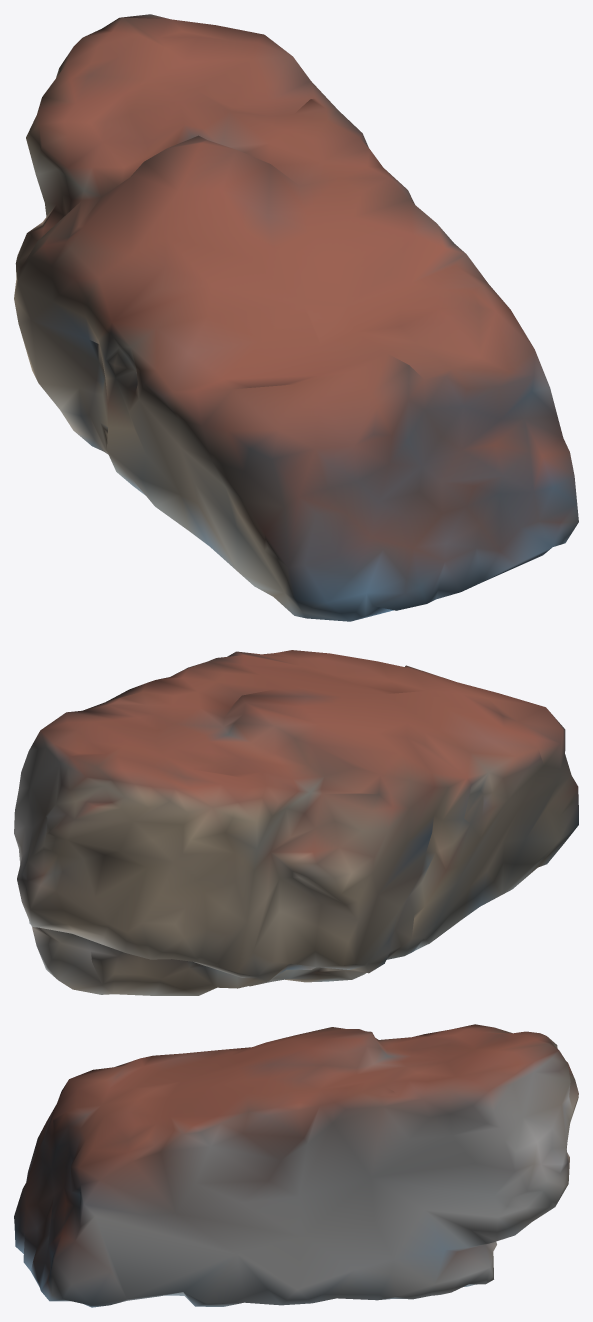
File: rock_07.fbx
The picture shows the model from 3 angles, top to bottom: view 1: azimuth 30°, elevation 25°; view 2: azimuth 150°, elevation 25°; view 3: azimuth 270°, elevation 25°; orthographic projection. The views are drawn at different scales.
Visible parts, largest first — view 1: rock_07.001; view 2: rock_07.001; view 3: rock_07.001.
Boxes of the visible parts, box(x1,y1,x2,y2) form: rock_07.001: box(14, 14, 578, 621); rock_07.001: box(14, 650, 578, 995); rock_07.001: box(14, 1024, 578, 1307).
Size of the model in its own units: 1.05 by 0.8962 by 2.
